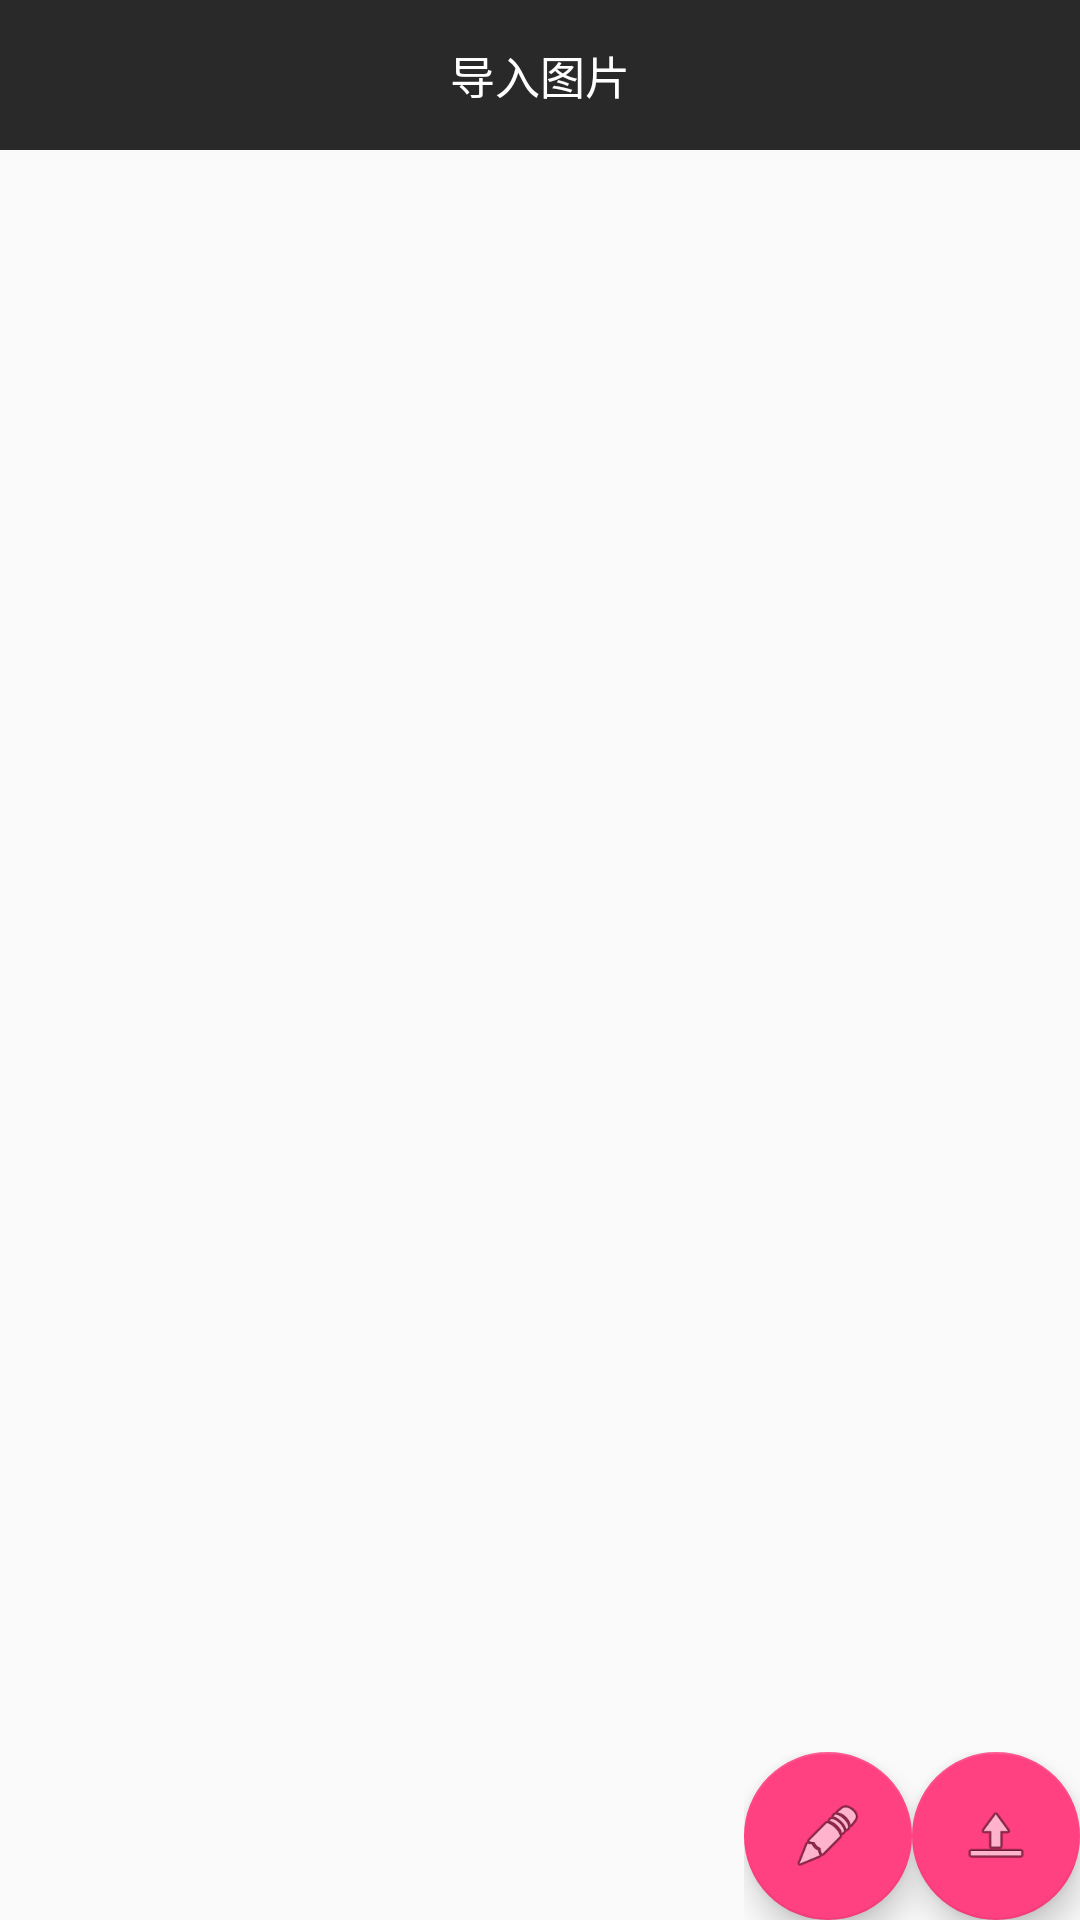

Icon bounding boxes for this 1080×1920 phone screenshot, format (x1, y1, x2, y2):
edit: (744, 1752, 912, 1920)
upload: (912, 1752, 1080, 1920)
